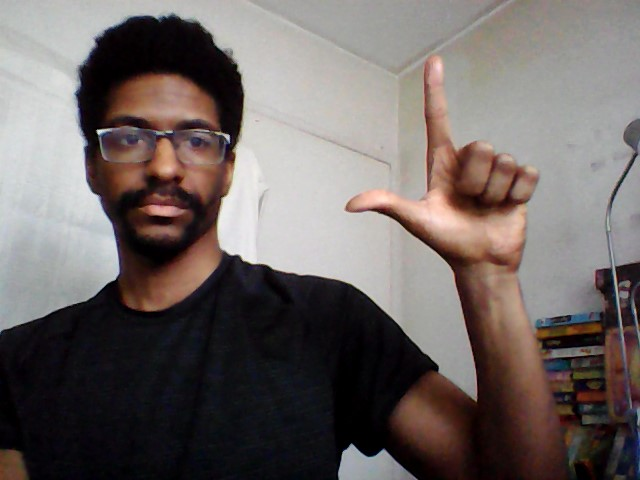l: (341, 48, 545, 277)
